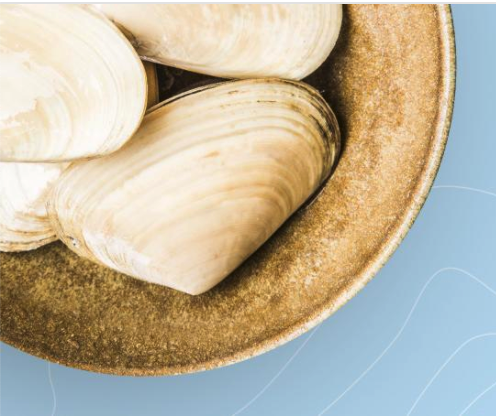tuatua: (41, 74, 341, 300), (1, 3, 150, 164), (96, 1, 346, 87), (1, 160, 61, 258)
